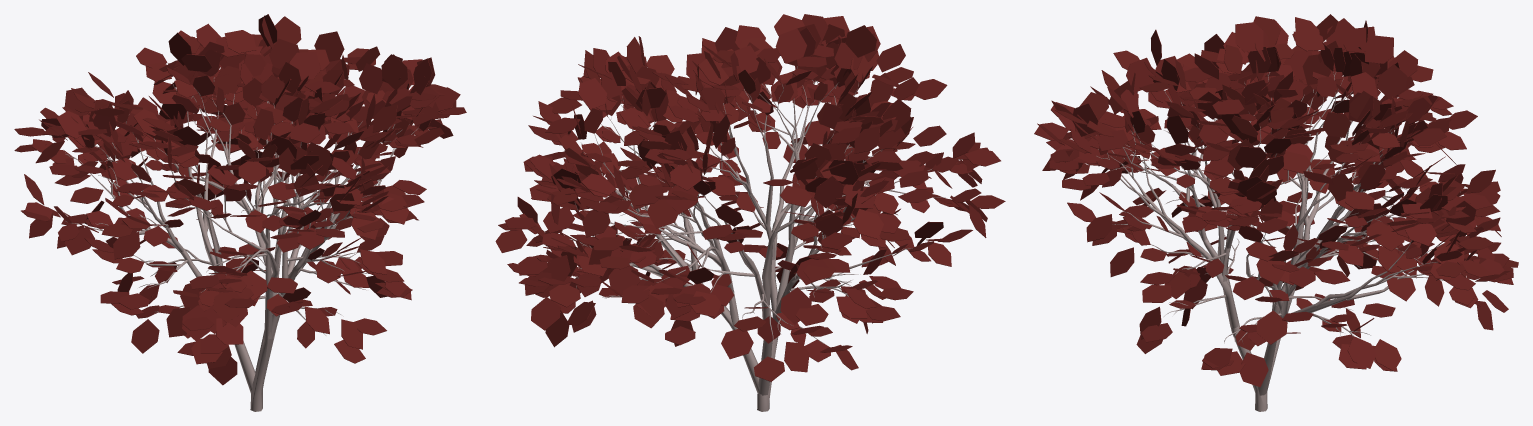
File: red_trees2.gltf
3 renders of one model, left to right at view 1: azimuth 30°, elevation 25°; view 2: azimuth 150°, elevation 25°; view 3: azimuth 270°, elevation 25°, orthographic. The views are drawn at different scales.
Parts seen in each view (by area): view 1: tree without motion.002; view 2: tree without motion.002; view 3: tree without motion.002.
Part boxes in pixels (x1,y1,x2,y2): tree without motion.002: [14, 14, 466, 411]; tree without motion.002: [495, 14, 1005, 411]; tree without motion.002: [1034, 14, 1518, 411].
Size of the model in its own units: 34.8 by 27.26 by 33.56.
1 material, 1 textured.
